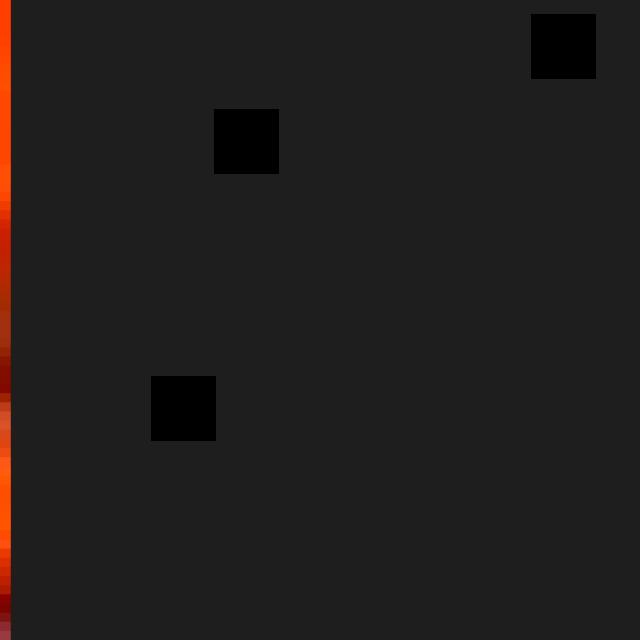nofire: (11, 0, 640, 640)
